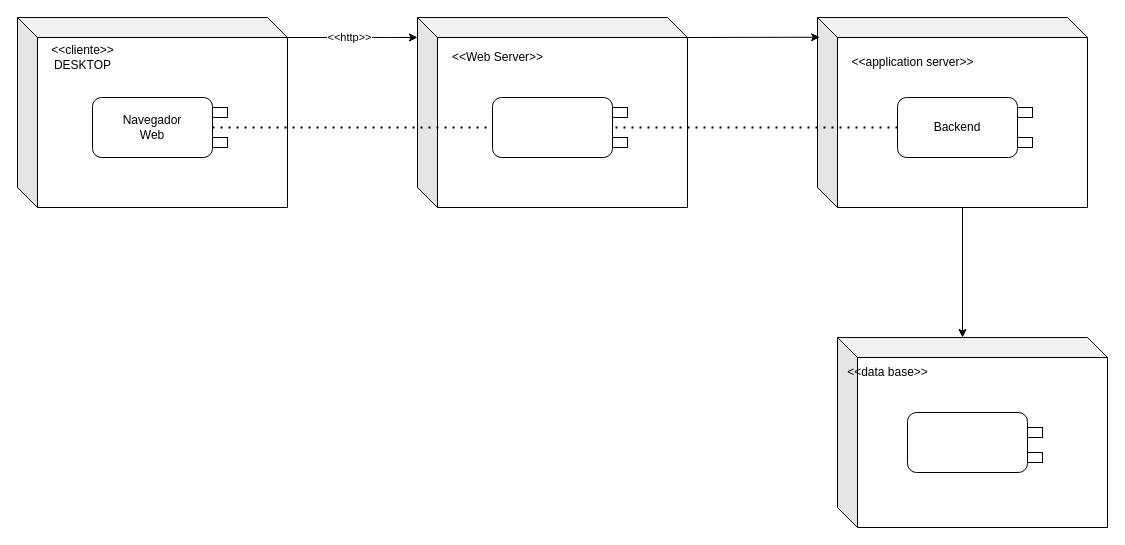
The diagram is 1125 pixels wide and 545 high, and some of its shapes have lost their labels. Each missing label, with the centre of its shape:
Aplicação: pixel 552 127
MySQL: pixel 967 442
